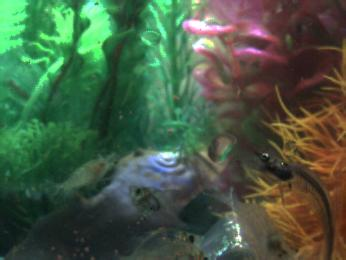X-ray fish: (125, 225, 205, 260), (127, 181, 183, 228)
glassfish: (254, 151, 337, 259)
siberian prawn: (46, 148, 121, 204)
